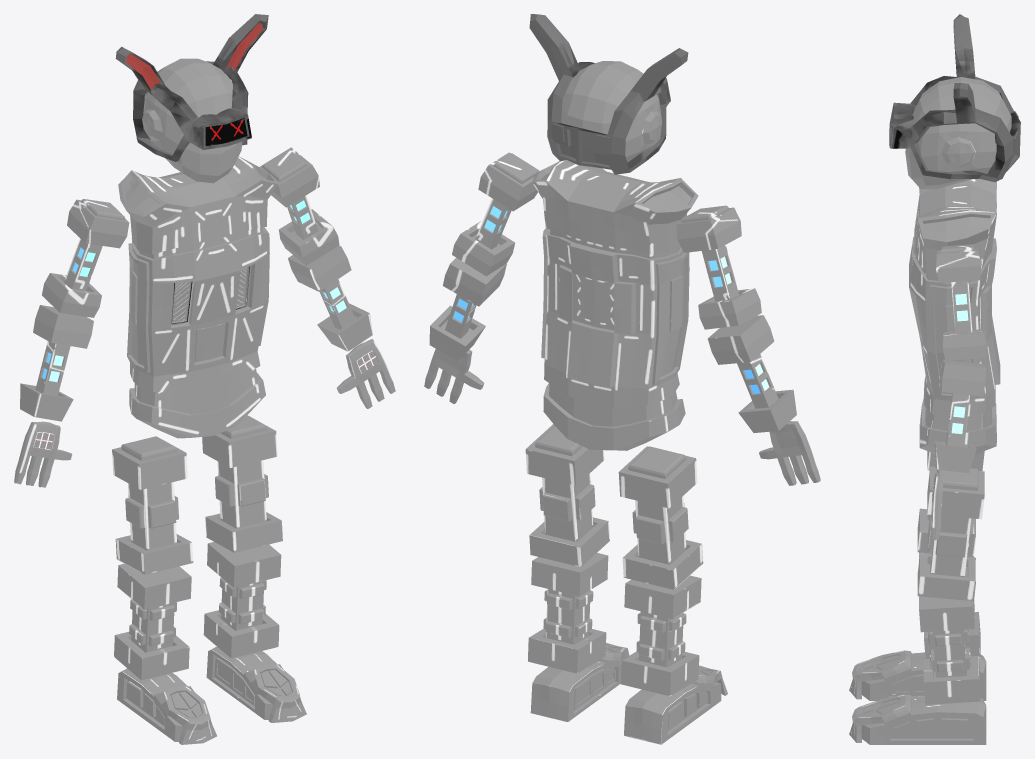
The model's file is kenny.glb.
3 views of the same model, side by side, from view 1: azimuth 30°, elevation 25°; view 2: azimuth 150°, elevation 25°; view 3: azimuth 270°, elevation 25° (orthographic). The views are drawn at different scales.
Visible parts, largest first — view 1: Character, Head_Goggles; view 2: Character, Head_Goggles; view 3: Character, Head_Goggles.
Boxes of the visible parts, x1,y1,x2,y2 form: Character: (14, 58, 395, 744); Head_Goggles: (115, 14, 268, 161); Character: (424, 61, 820, 744); Head_Goggles: (529, 14, 688, 174); Character: (849, 77, 1011, 744); Head_Goggles: (889, 14, 1020, 181).
Bounding box in the file's own units: 1.19 × 1.97 × 0.4615.
Materials: 6 (2 with a texture image).
